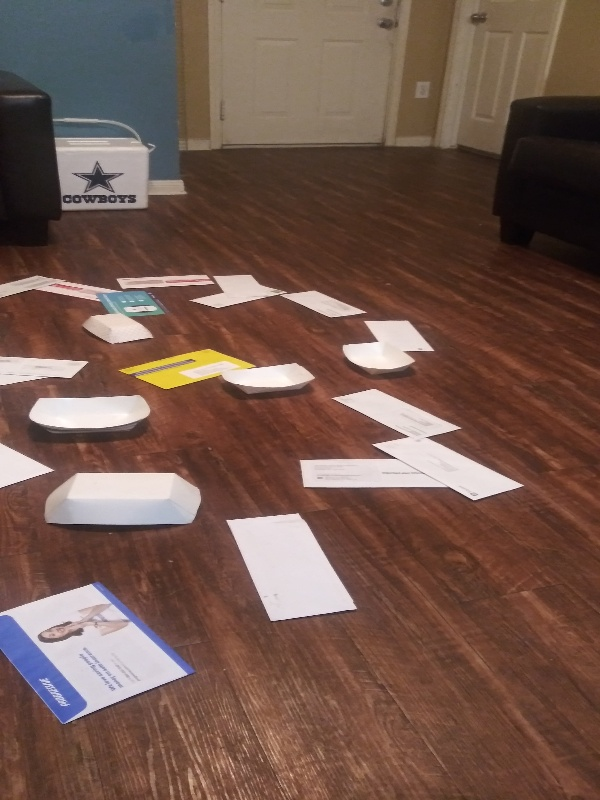plate: (40, 469, 204, 535), (26, 392, 154, 439), (215, 359, 319, 399), (333, 339, 419, 382), (81, 310, 157, 348)
